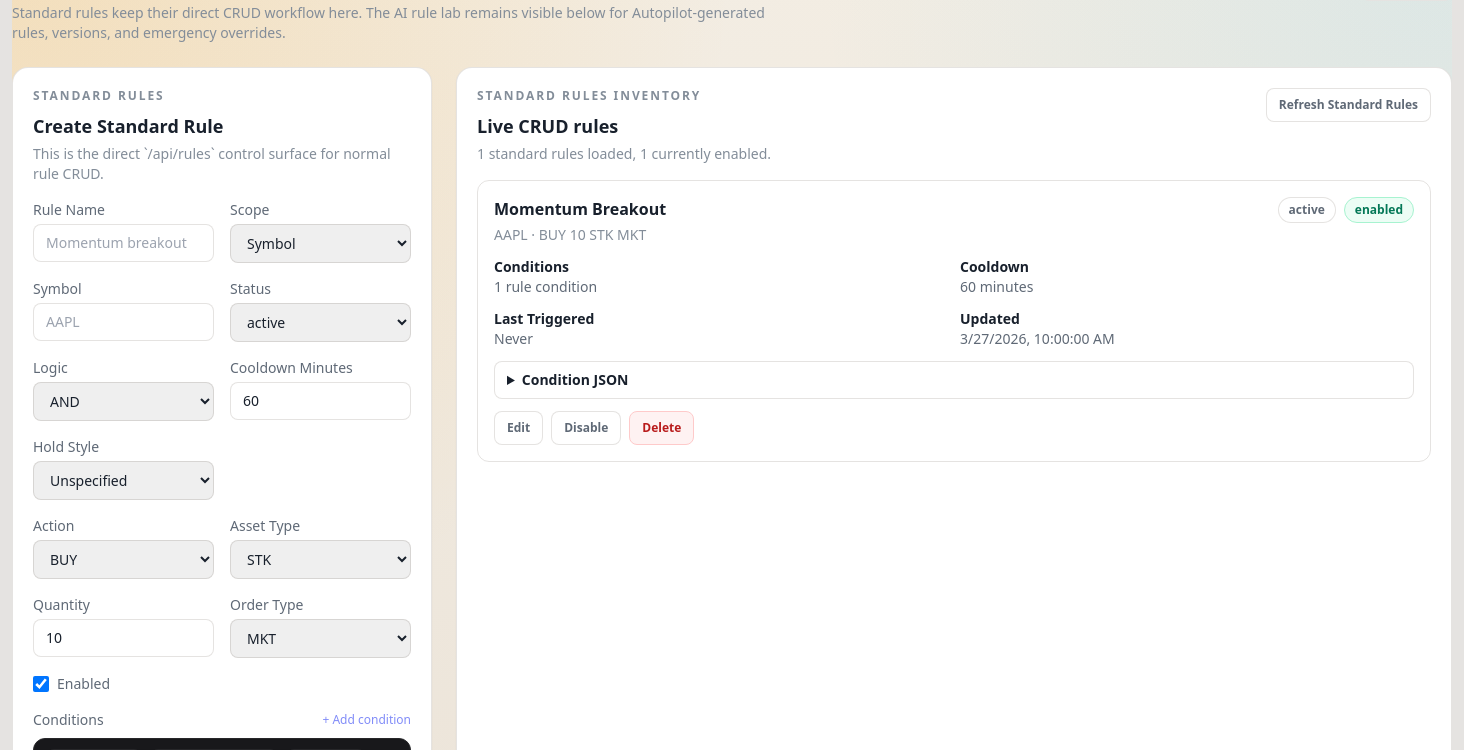
Test case: RulesPage › creates a standard rule through the restored CRUD form
Expected: the heading "Momentum Breakout" is shown, x1=494 y1=197 x2=666 y2=221
Type "Mean Reversion" into the field labelled "Rule Name" at x=124, y=243, box x1=33 y1=224 x2=214 y2=262
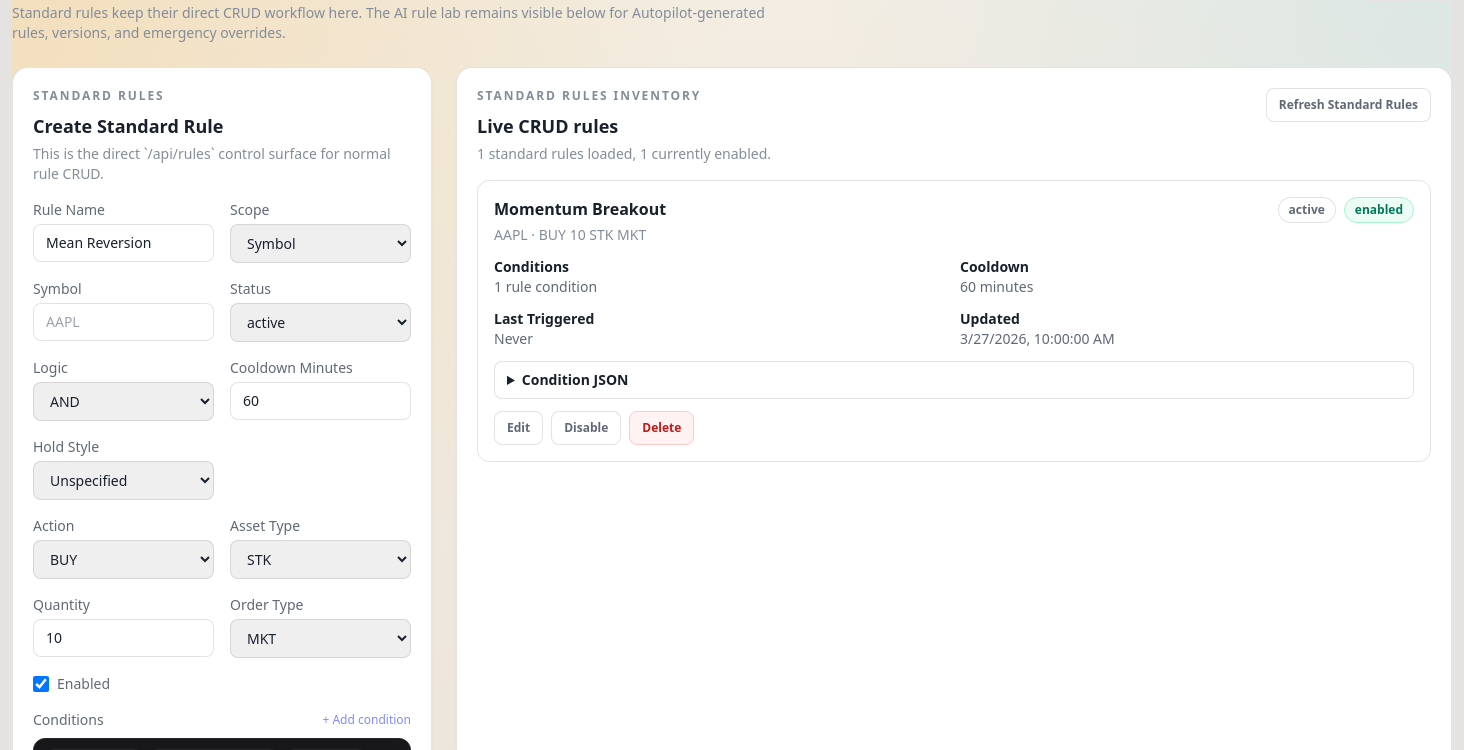
Type "msft" into the field labelled "Symbol" at x=124, y=322, box x1=33 y1=303 x2=214 y2=341
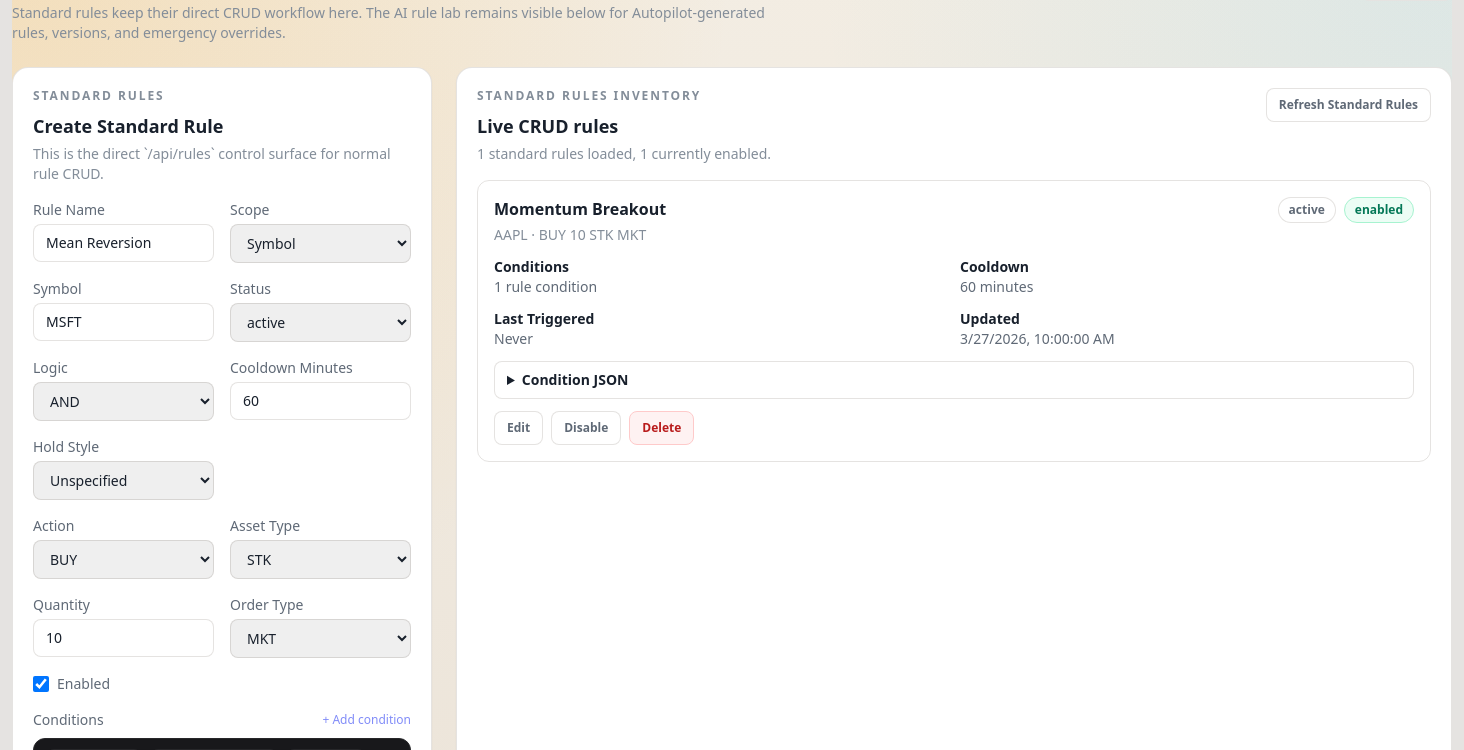
Replace the text in the number field labelled "Quantity" with "25" at x=124, y=638, box x1=33 y1=619 x2=214 y2=657
(page scrolled)
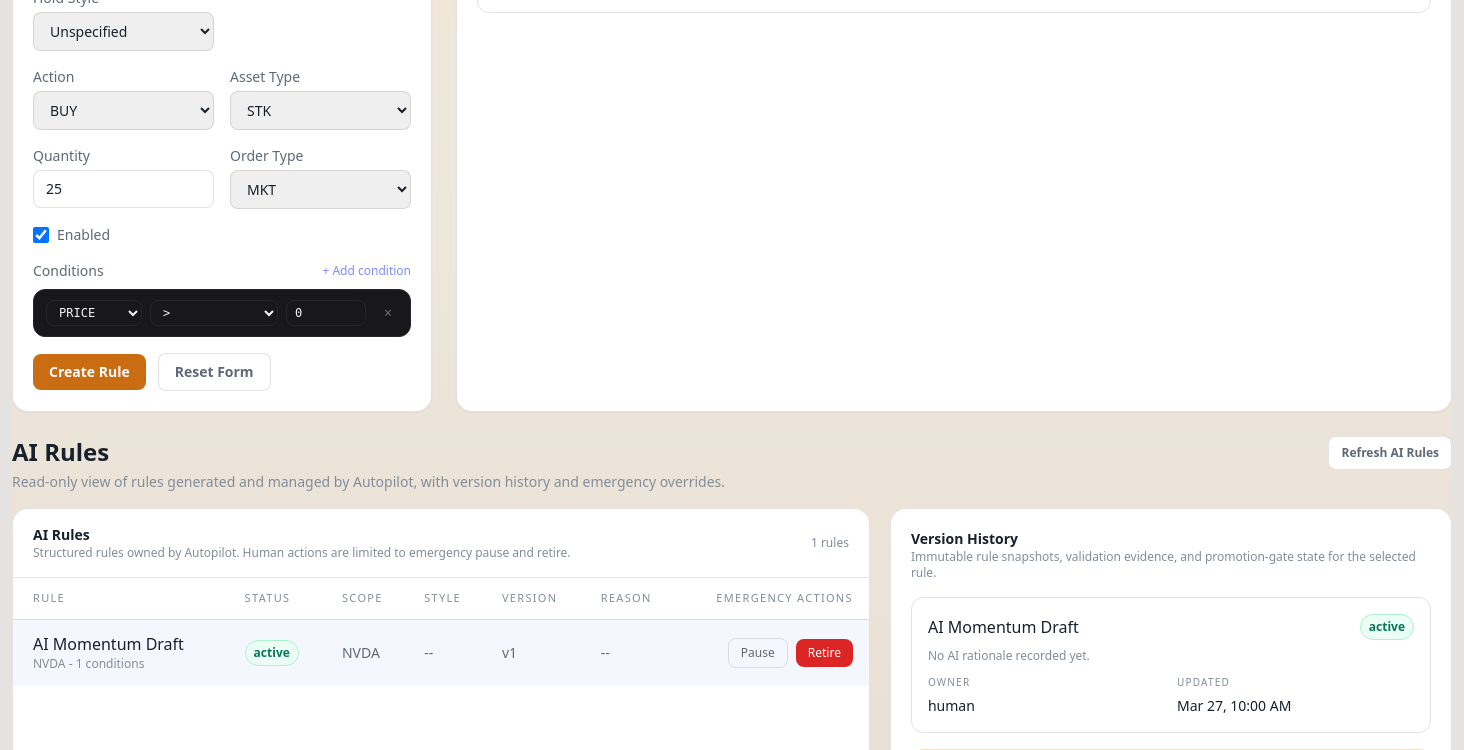
Click the button "Create Rule" at x=89, y=372, box x1=33 y1=354 x2=146 y2=390
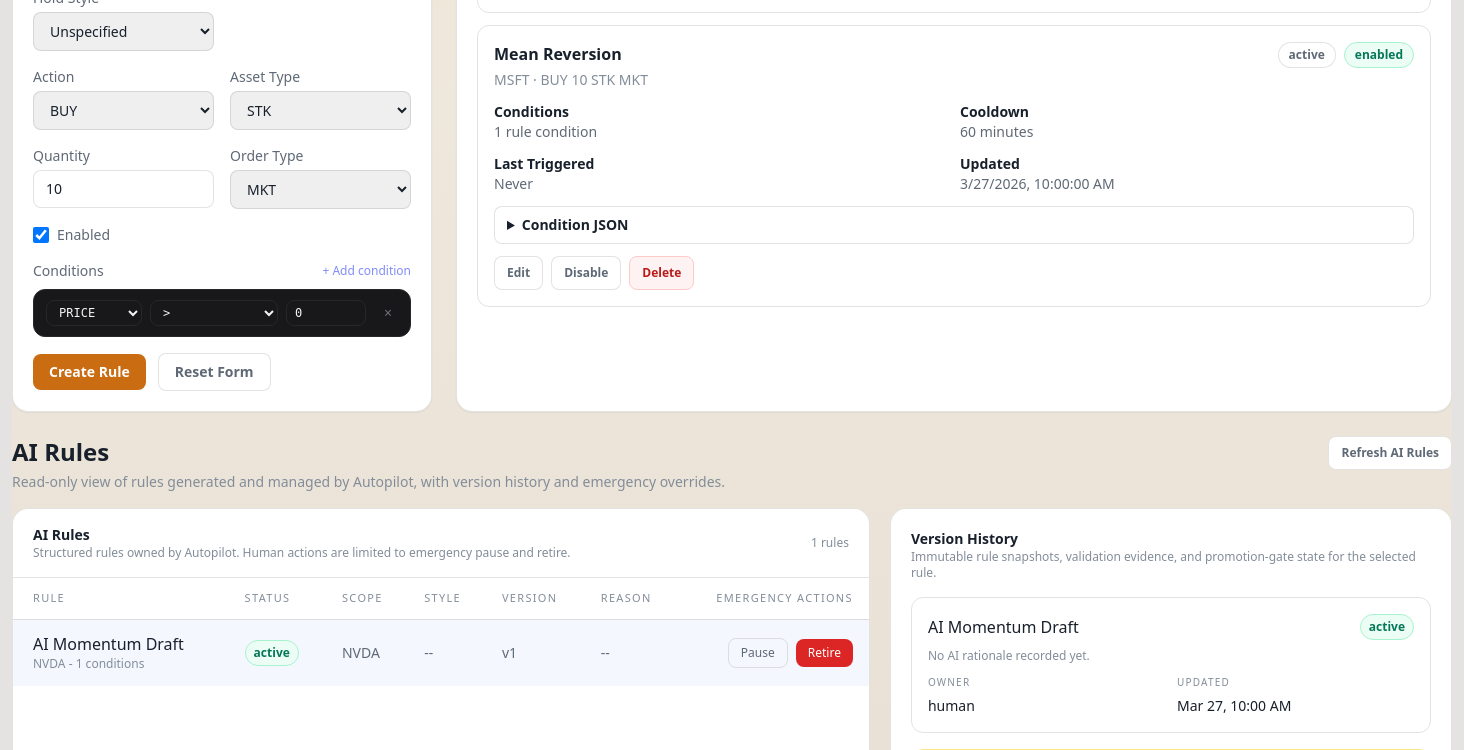
Expected: the heading "Mean Reversion" is shown, x1=494 y1=43 x2=622 y2=65
